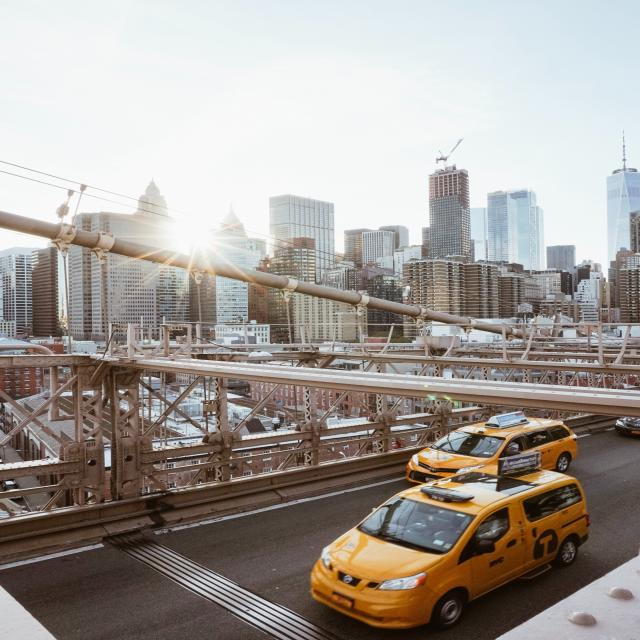car: (317, 466, 600, 628), (395, 397, 600, 482)
